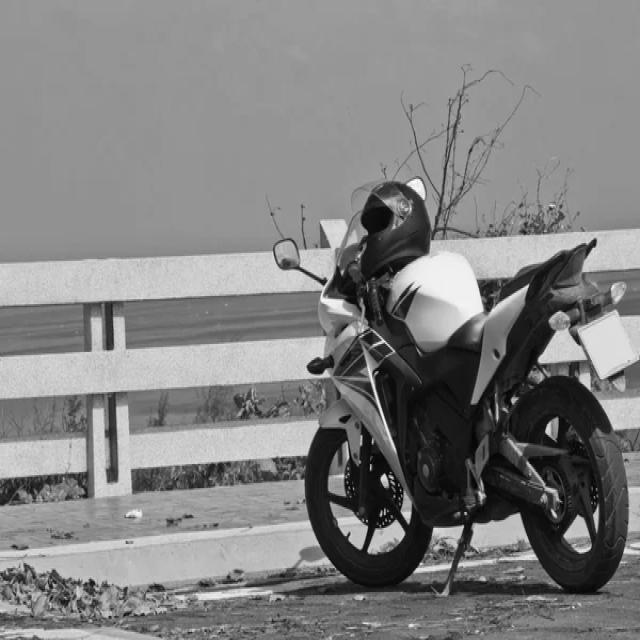Motorcycle: (306, 181, 640, 594)
